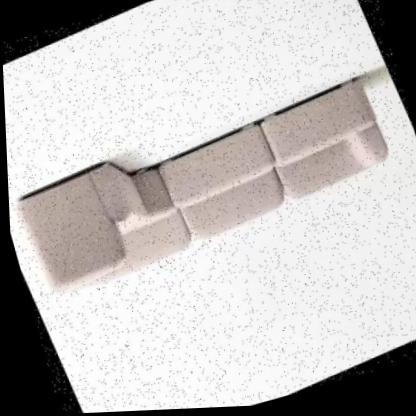Sofa: (1, 13, 416, 340)
